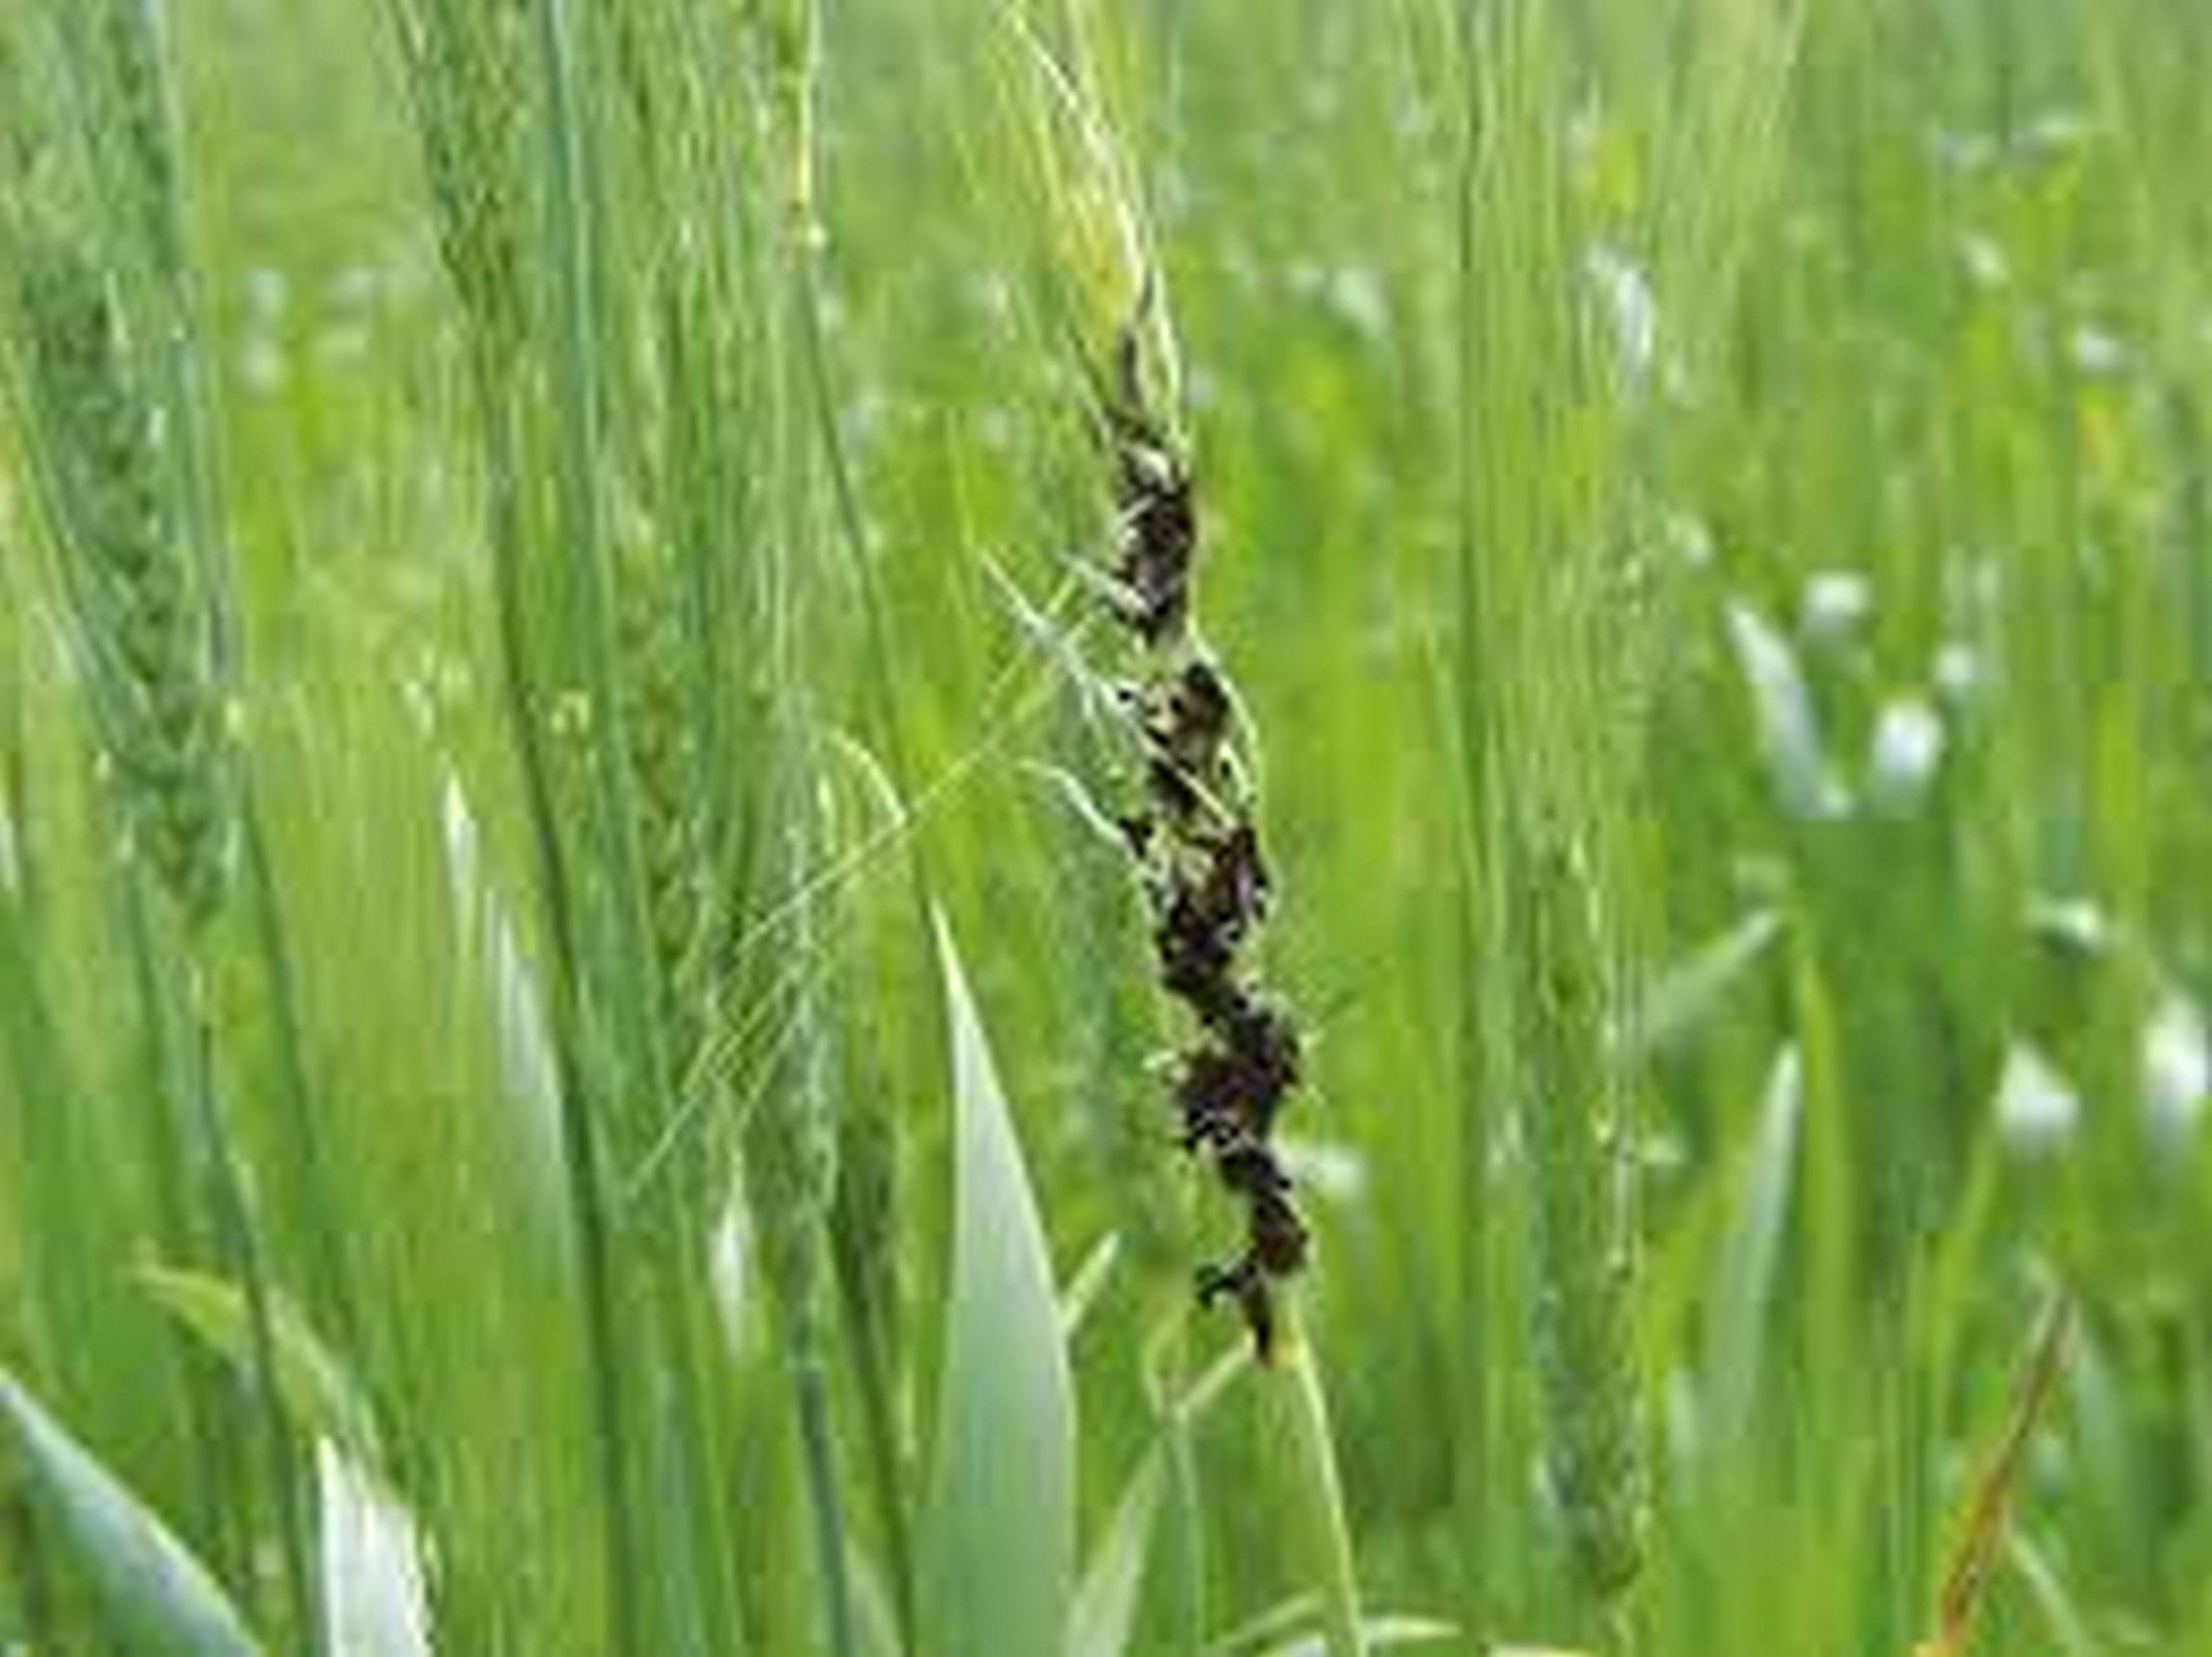Wheat Loose Smut: (1041, 433, 1377, 1288)
